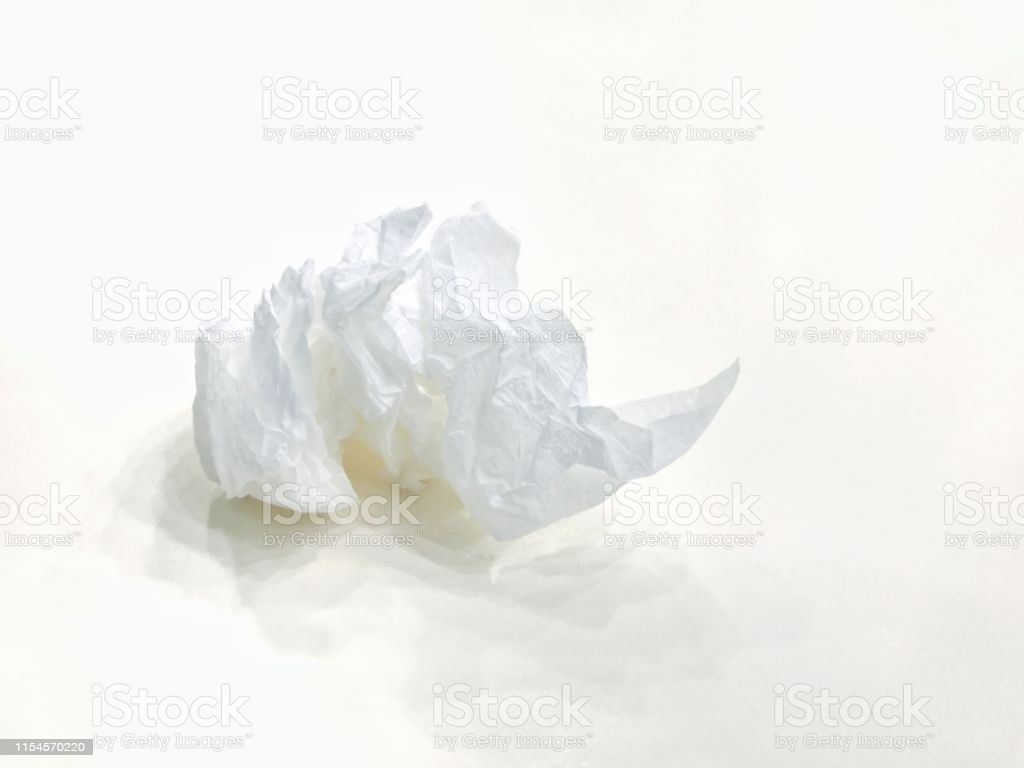Tissue: (187, 199, 745, 556)
